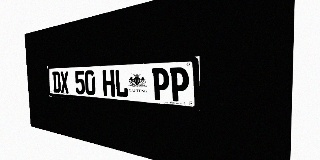0: (84, 70, 96, 95)
5: (75, 70, 85, 95)
D: (52, 71, 61, 93)
H: (102, 69, 115, 97)
L: (115, 69, 128, 98)
P: (170, 67, 189, 102), (152, 68, 169, 101)
X: (60, 71, 69, 93)
